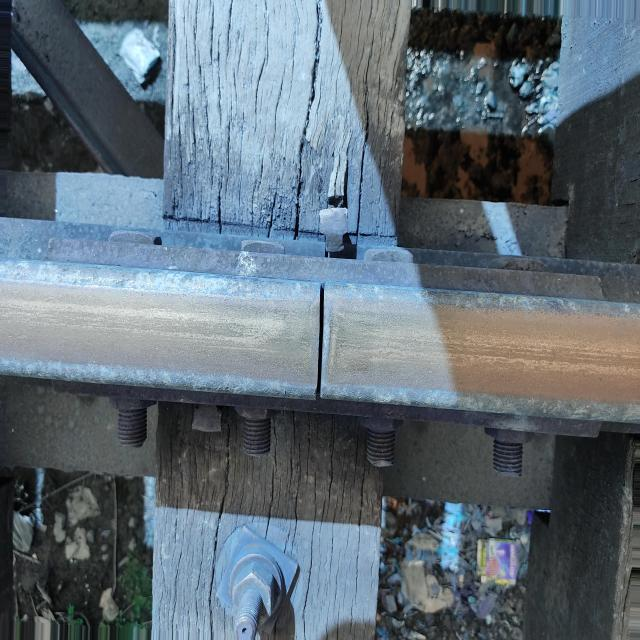crack: (301, 270, 345, 434)
